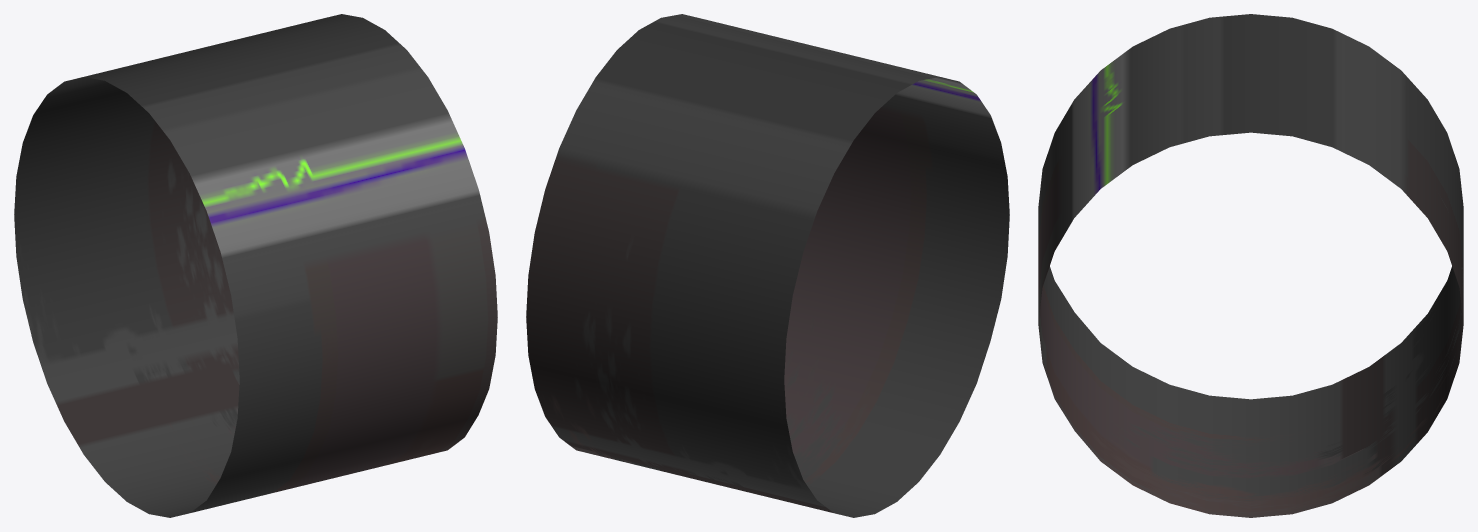
The model's file is SM_Pipe_Tiny.fbx.
The picture shows the model from 3 angles, left to right: view 1: azimuth 30°, elevation 25°; view 2: azimuth 150°, elevation 25°; view 3: azimuth 270°, elevation 25°; orthographic projection. The views are drawn at different scales.
Parts seen in each view (by area): view 1: SM_Pipe_Tiny; view 2: SM_Pipe_Tiny; view 3: SM_Pipe_Tiny.
Part boxes in pixels (<box>): SM_Pipe_Tiny: <box>14,14,497,517</box>; SM_Pipe_Tiny: <box>526,14,1009,517</box>; SM_Pipe_Tiny: <box>1038,14,1463,517</box>.
Size of the model in its own units: 2 by 3.03 by 3.03.
